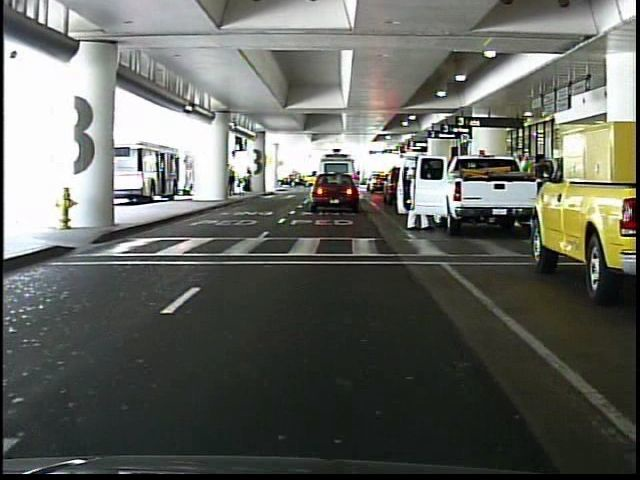person: (405, 149, 434, 234), (225, 163, 238, 198), (243, 165, 256, 195)
